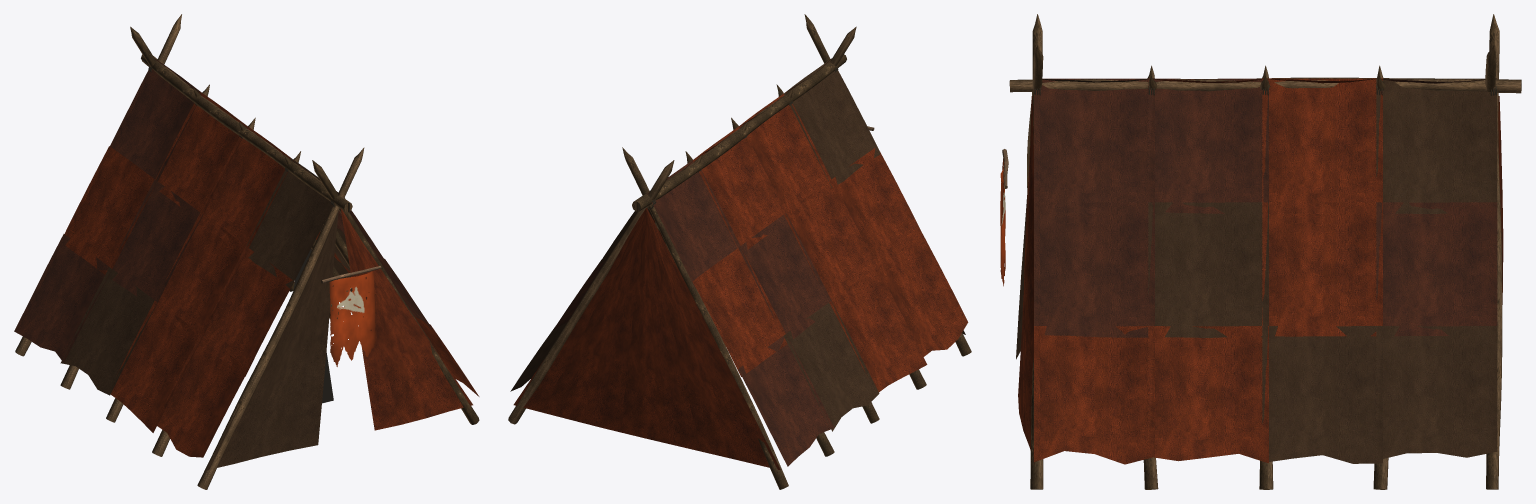
File: SM_Bld_Red_House.gltf
3 views of the same model, side by side, from view 1: azimuth 30°, elevation 25°; view 2: azimuth 150°, elevation 25°; view 3: azimuth 270°, elevation 25° (orthographic). The views are drawn at different scales.
Visible parts, largest first — view 1: SM_Bld_Red_House; view 2: SM_Bld_Red_House; view 3: SM_Bld_Red_House.
Boxes of the visible parts, x1=… form: SM_Bld_Red_House: x1=14, y1=14, x2=479, y2=489; SM_Bld_Red_House: x1=508, y1=14, x2=971, y2=489; SM_Bld_Red_House: x1=1000, y1=14, x2=1521, y2=489.
Bounding box in the file's own units: 5.9 × 6.06 × 7.54.
8 materials, 7 textured.
